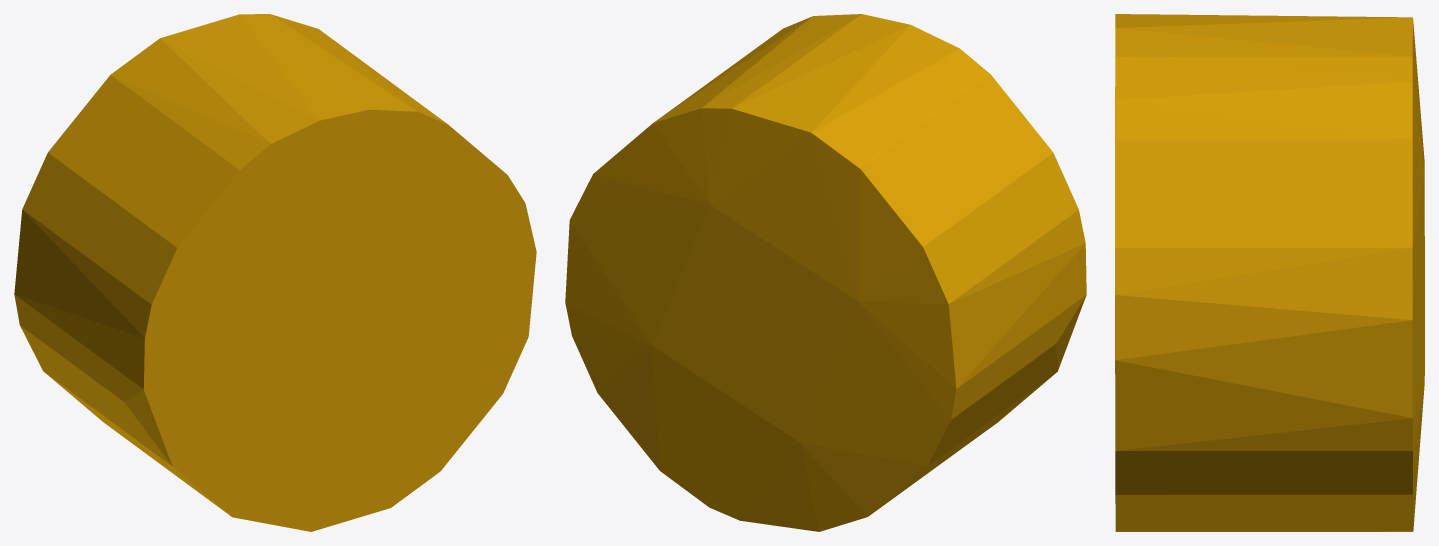
The model's file is model1_convex_piece_000.obj.
3 renders of one model, left to right at view 1: azimuth 30°, elevation 25°; view 2: azimuth 150°, elevation 25°; view 3: azimuth 270°, elevation 25°, orthographic. The views are drawn at different scales.
Size of the model in its own units: 0.00738 by 0.00737 by 0.0044.
